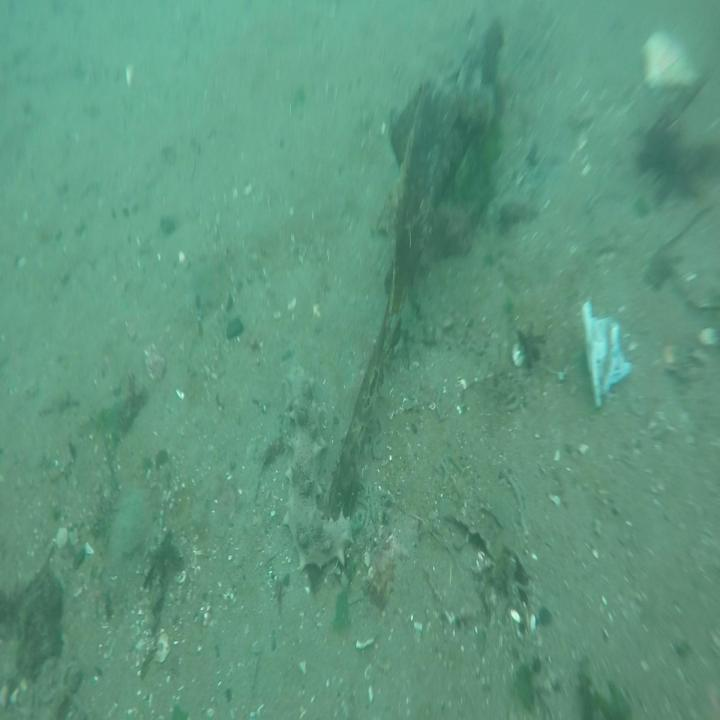holothurian: (284, 362, 354, 572)
